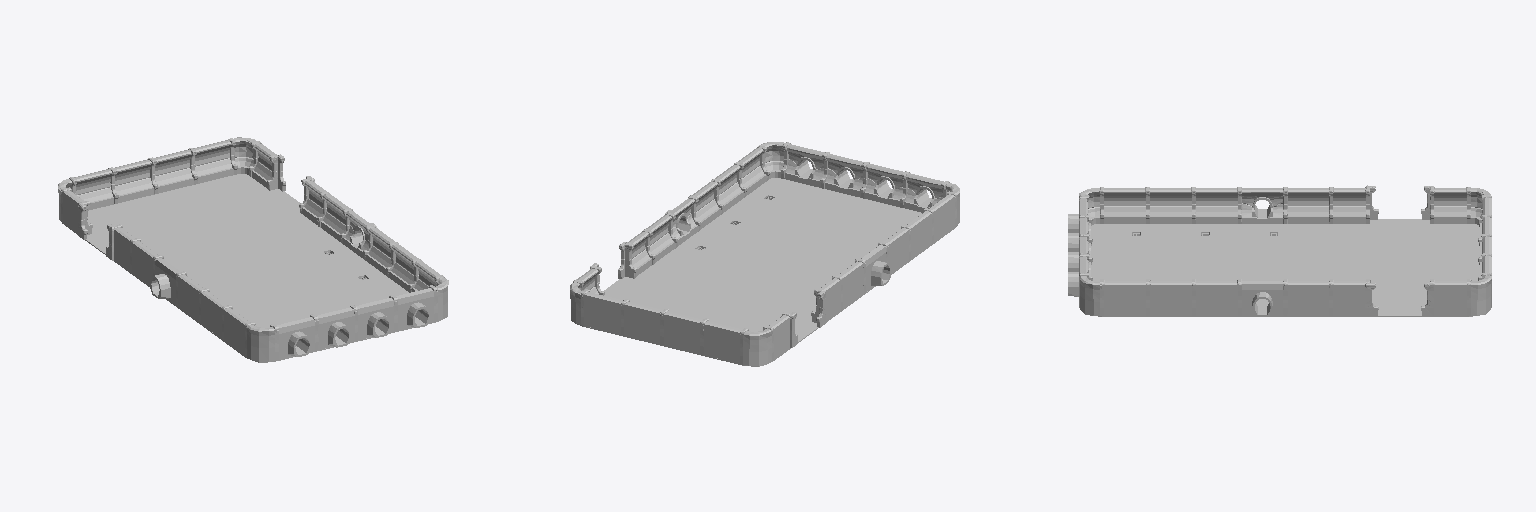
The model's file is DungeonRoom_11.obj.
The picture shows the model from 3 angles: view 1: azimuth 30°, elevation 25°; view 2: azimuth 150°, elevation 25°; view 3: azimuth 270°, elevation 25°; orthographic projection.
Visible parts, largest first — view 1: DungeonRoom_11; view 2: DungeonRoom_11; view 3: DungeonRoom_11.
Part boxes in pixels (left/top/right/bottom): DungeonRoom_11: left=58, top=137, right=448, bottom=362; DungeonRoom_11: left=570, top=142, right=959, bottom=366; DungeonRoom_11: left=1068, top=185, right=1491, bottom=316.
Size of the model in its own units: 44 by 8.22 by 74.08.